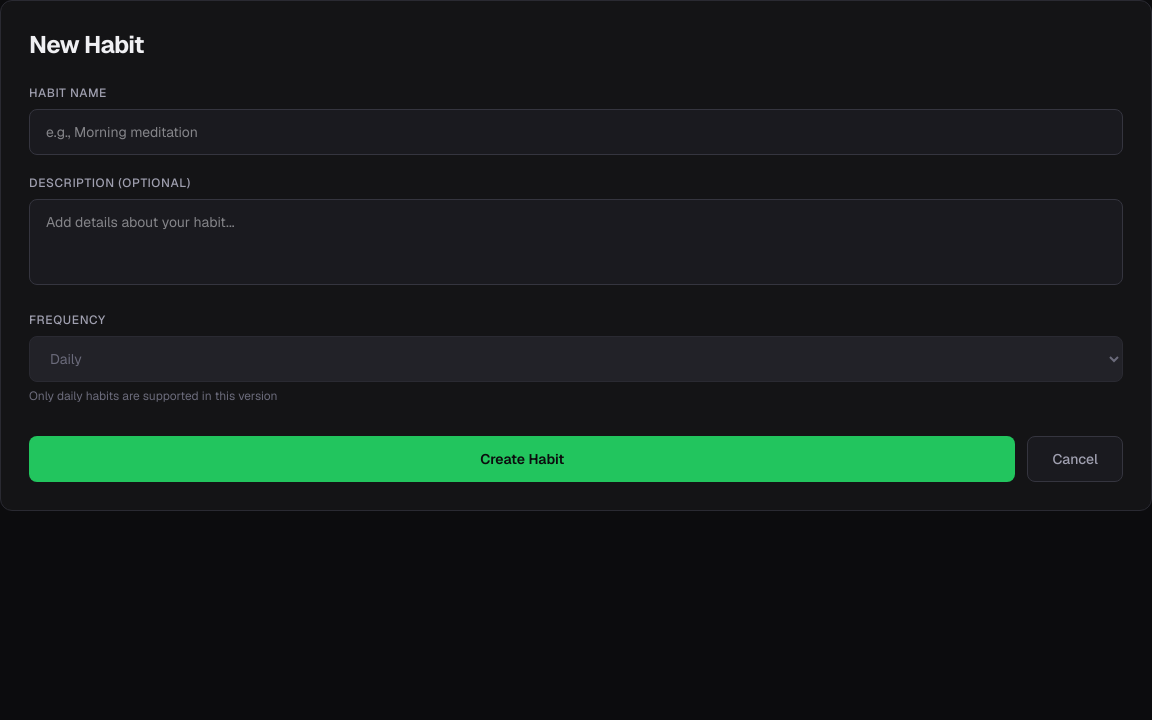
Scenario: HabitForm › should show exact error message for empty name
Click the button with test id "habit-save-button". click: click(522, 459)
box: [29,436,1015,482]
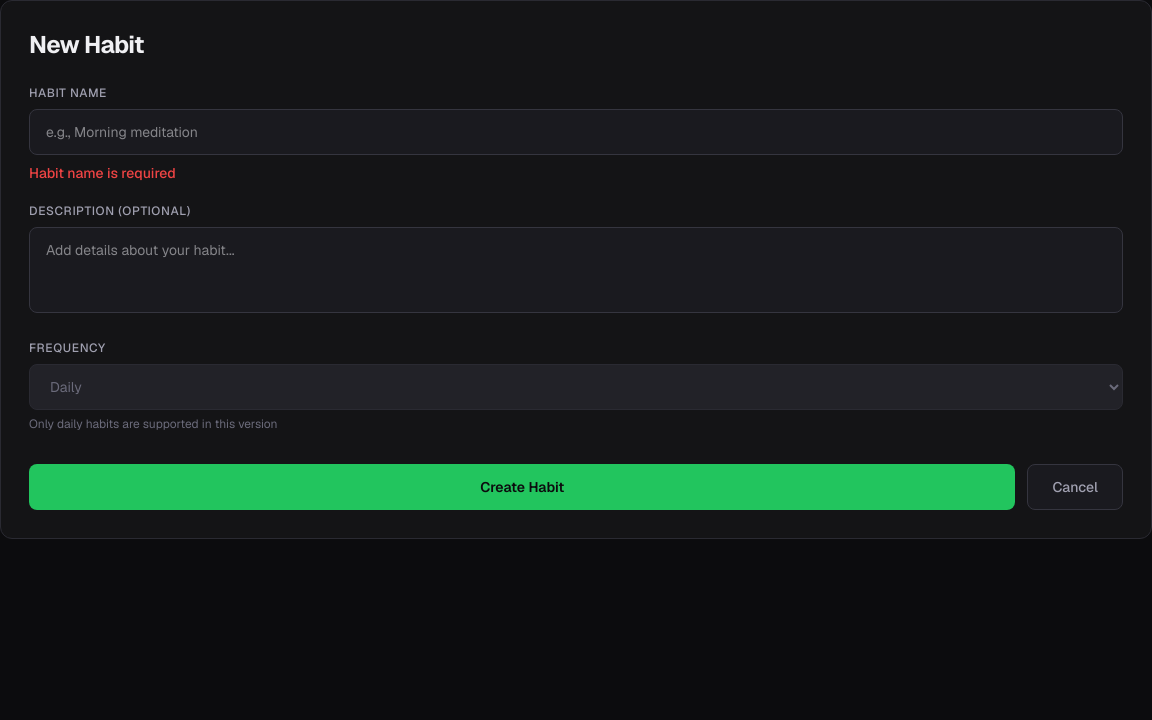
Expected: the text "Habit name is required" is shown, [29,164,176,182]
